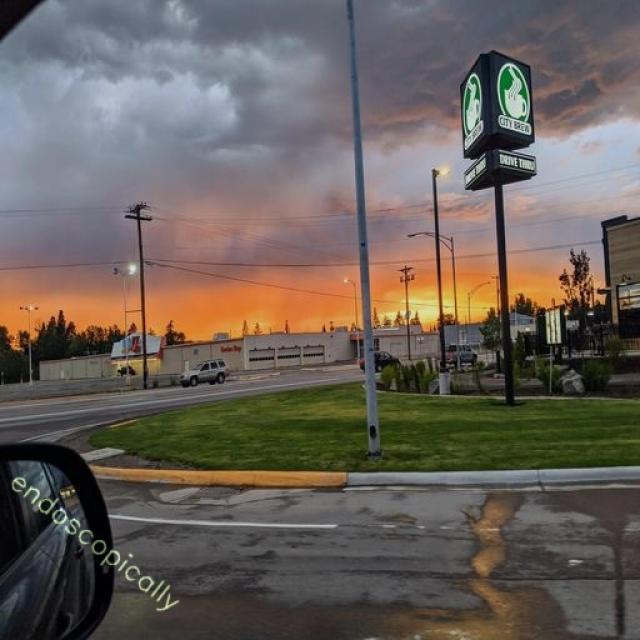watermark: (0, 461, 192, 617)
